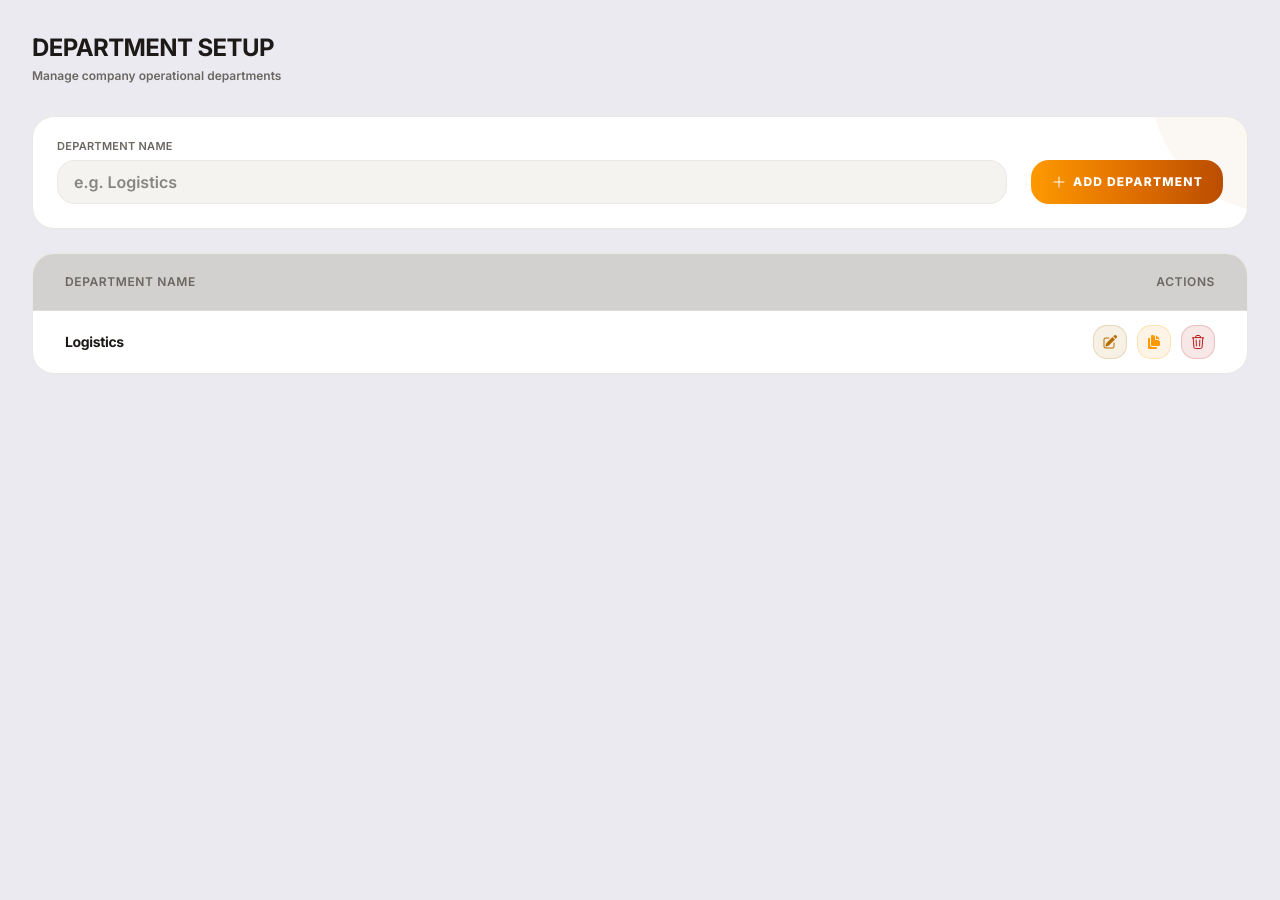
Test: DepartmentsPage delete impact warnings › allows deletion when department has no active employees
The image size is (1280, 900).
Expected: the text "Logistics" is shown, [65,333,124,350]
Click the button titled "Delete". click: (1198, 342)
box: [1181,325,1215,359]
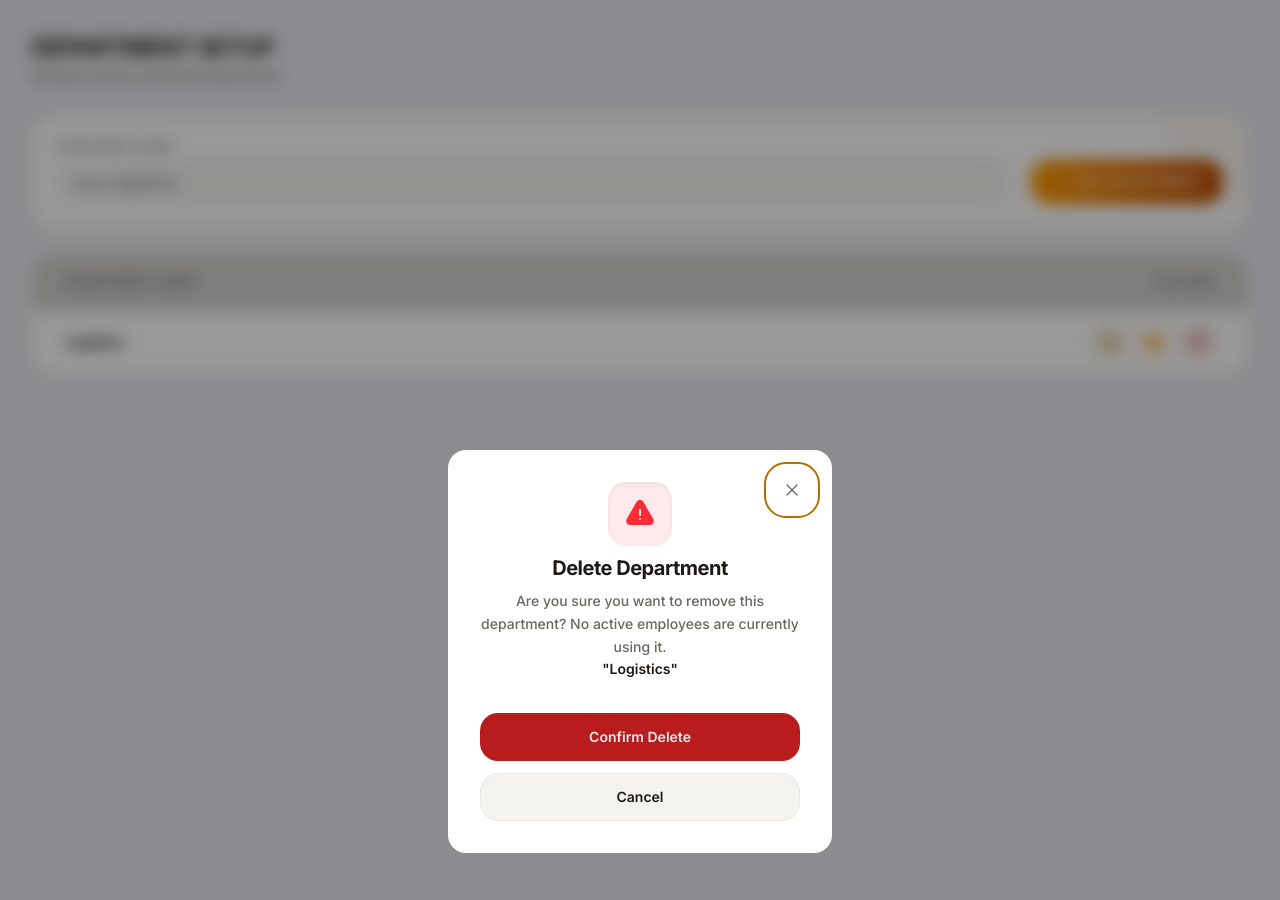
Now the text "Are you sure you want to remove this department?" is shown, box [481,592,799,654]
Now the button "Confirm Delete" is shown, box [480,713,800,761]
